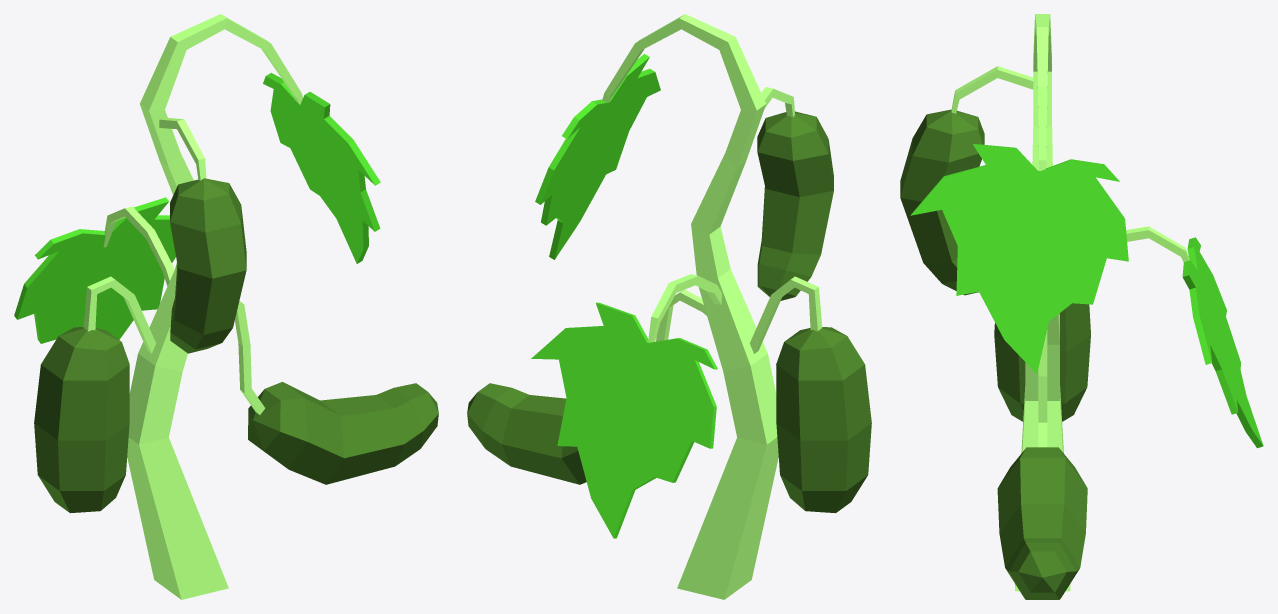
The model's file is cucumber.fbx.
The picture shows the model from 3 angles, left to right: view 1: azimuth 30°, elevation 25°; view 2: azimuth 150°, elevation 25°; view 3: azimuth 270°, elevation 25°; orthographic projection.
Visible parts, largest first — view 1: Cube; view 2: Cube; view 3: Cube.
Boxes of the visible parts, x1=… form: Cube: x1=14, y1=14, x2=438, y2=599; Cube: x1=467, y1=14, x2=871, y2=599; Cube: x1=900, y1=14, x2=1263, y2=599.
Size of the model in its own units: 690 by 944 by 547.
